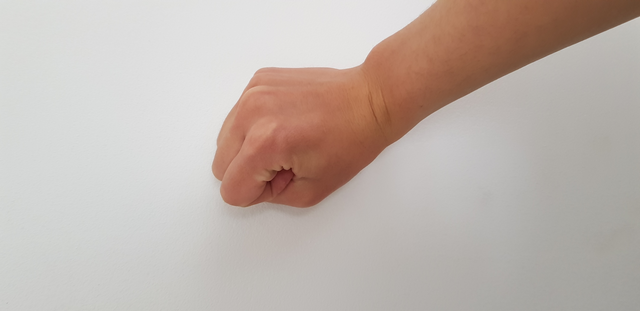Rock: (165, 42, 416, 222)
